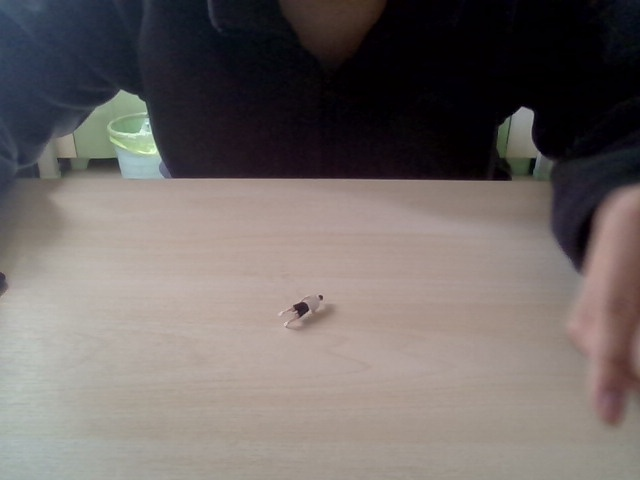fall: (272, 288, 326, 329)
